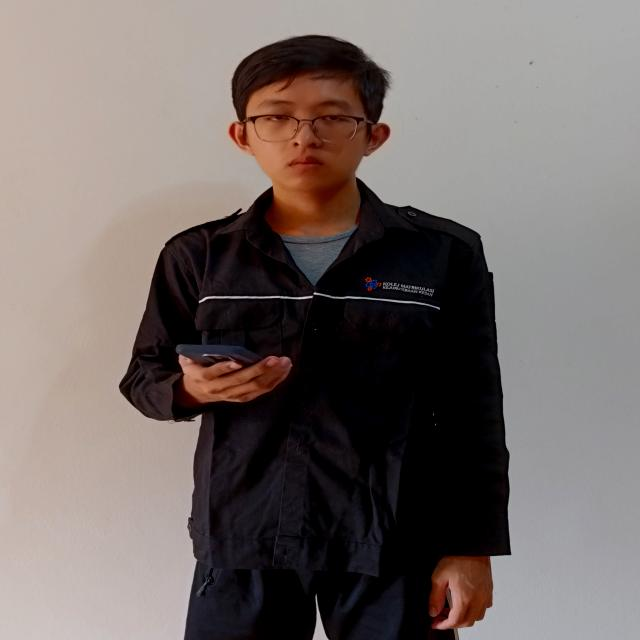person_with_labcoat: (120, 35, 510, 640)
